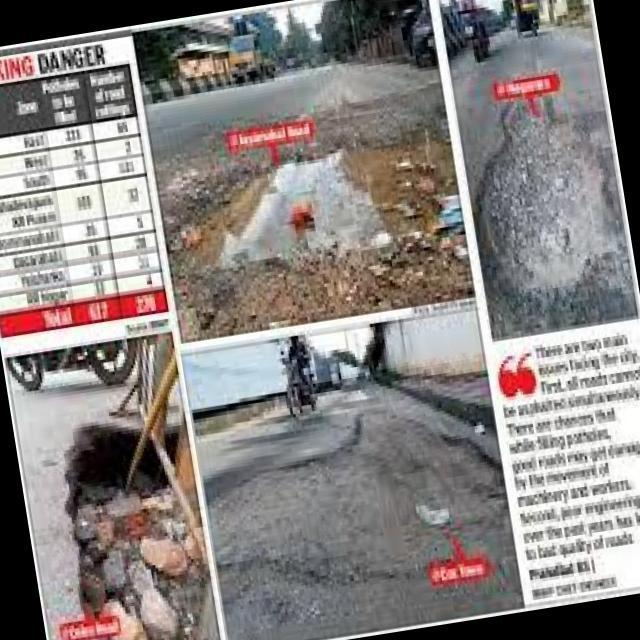Pothole: (473, 61, 640, 611)
